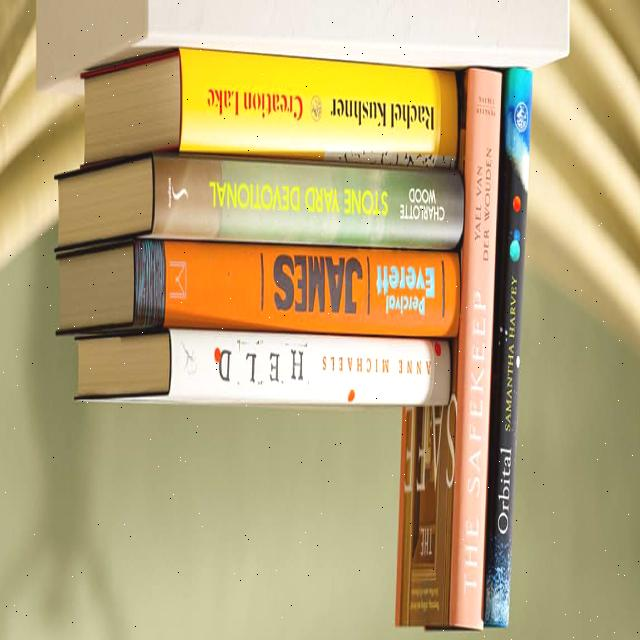book: (66, 152, 457, 253), (179, 50, 456, 170), (481, 70, 534, 628), (452, 70, 504, 630), (163, 242, 461, 338), (168, 333, 450, 403)
